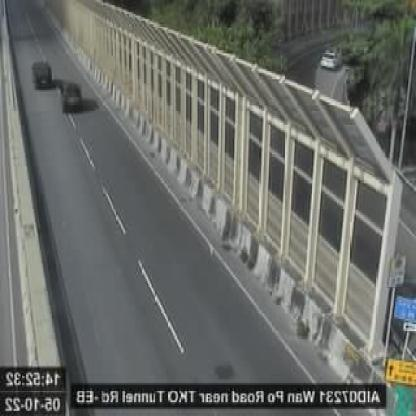Car: (60, 81, 84, 111), (32, 61, 51, 90)
